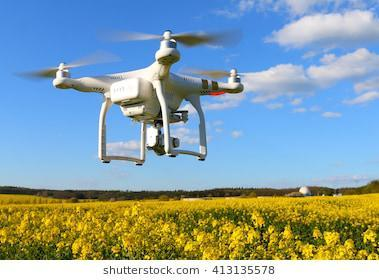drone: (11, 7, 269, 183)
